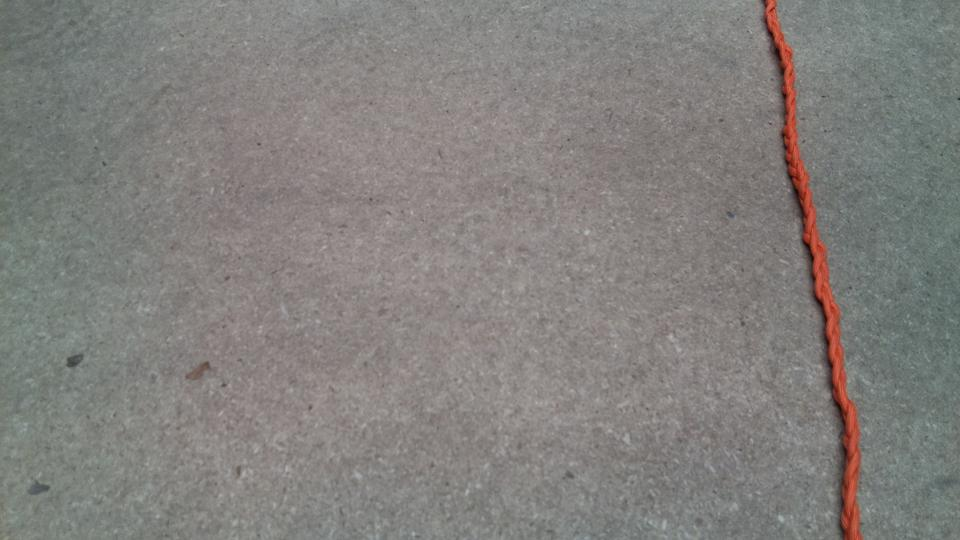rope: (758, 1, 870, 540)
